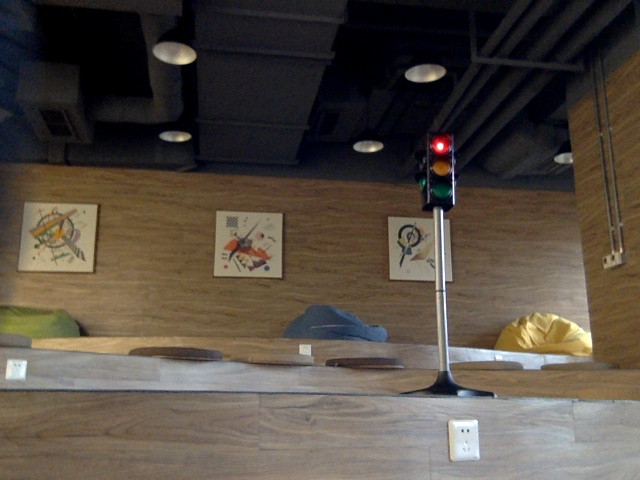red: (423, 135, 452, 198)
